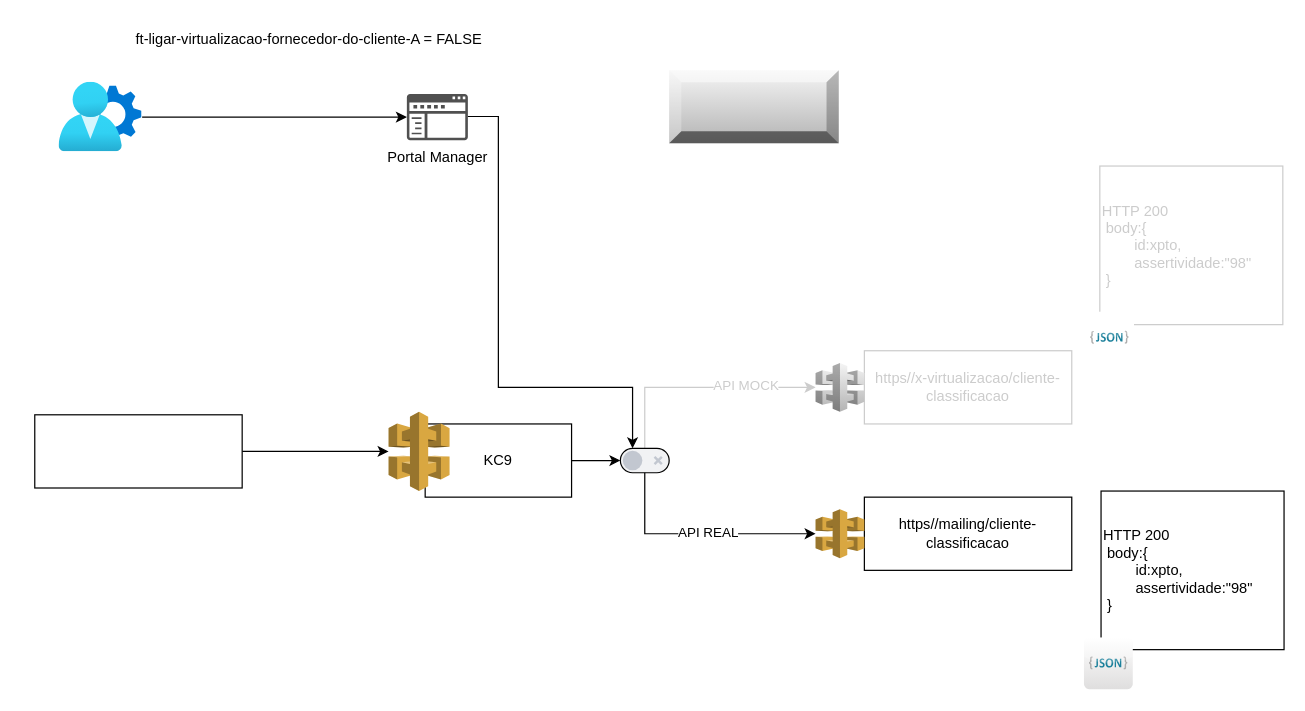
Some shapes in this 1305 by 711 pixel diagram are drawn without their labels. Each missing label, with the box of its shape:
cliente A: (34, 414, 242, 488)
Engenheiros, PA's, PM's: (59, 82, 142, 151)
VIRTUALIZACAO DESLIGADA: (668, 69, 839, 143)
